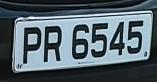4: (108, 19, 127, 60)
5: (90, 19, 109, 62), (126, 17, 145, 59)
6: (69, 21, 90, 65)
P: (21, 23, 43, 67)
R: (41, 22, 66, 66)
